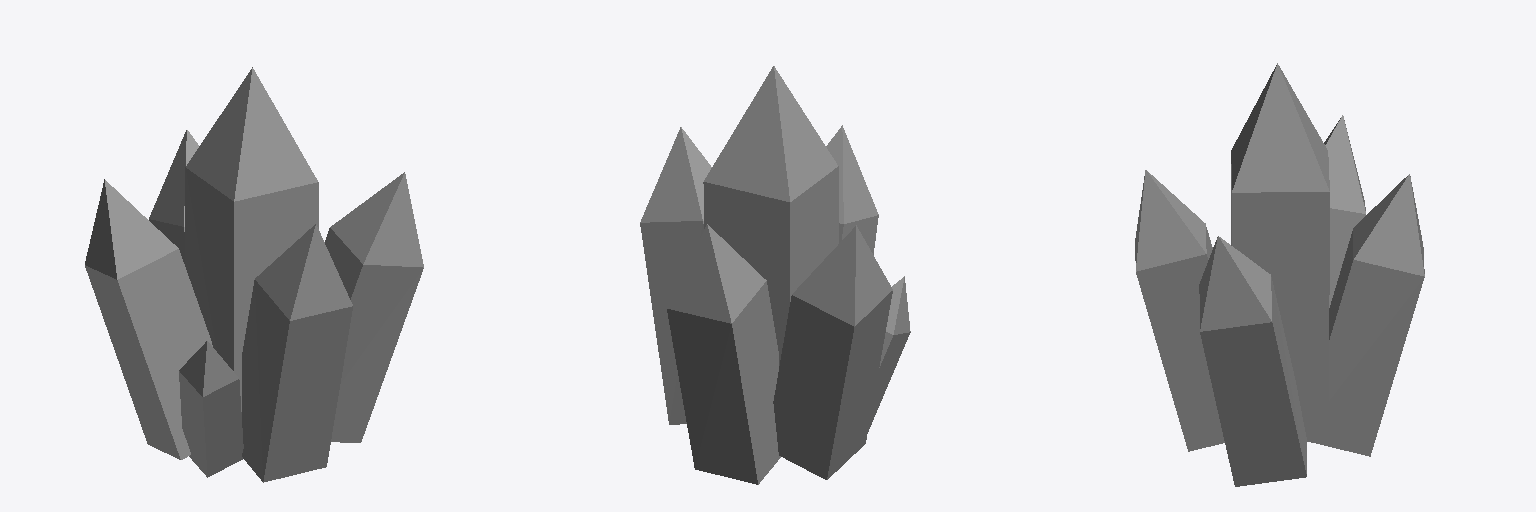
Rendered from crystal_optional_smaller.obj.
The picture shows the model from 3 angles: view 1: azimuth 30°, elevation 25°; view 2: azimuth 150°, elevation 25°; view 3: azimuth 270°, elevation 25°; orthographic projection.
Parts seen in each view (by area): view 1: Main_Cone; view 2: Main_Cone; view 3: Main_Cone.
Part boxes in pixels (x1,y1,x2,y2): Main_Cone: (85,67,423,482); Main_Cone: (640,66,910,484); Main_Cone: (1135,63,1424,486).
Bounding box in the file's own units: 0.7794 × 1.08 × 0.7414.